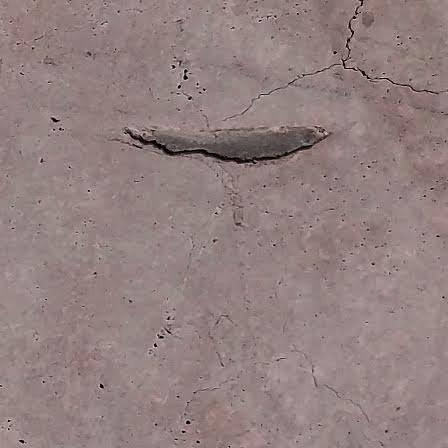crack: (315, 0, 448, 134), (279, 339, 398, 448), (166, 338, 292, 427), (217, 52, 341, 127), (168, 71, 215, 133)
